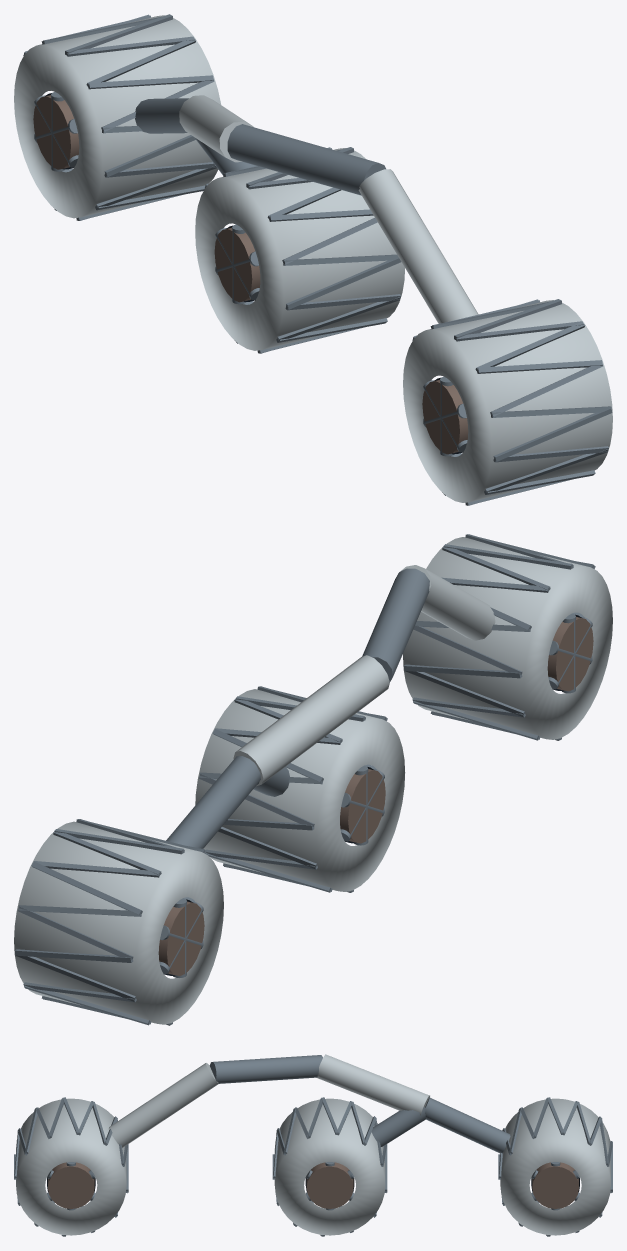
Rendered from curiosity_mobility.rocker_right.glb.
The picture shows the model from 3 angles, top to bottom: view 1: azimuth 30°, elevation 25°; view 2: azimuth 150°, elevation 25°; view 3: azimuth 270°, elevation 25°; orthographic projection. The views are drawn at different scales.
Visible parts, largest first — view 1: curiosity_mobility.rocker_right.steer_front.wheel_front.rim. (×3), curiosity_mobility.rocker_right.bogie.steer_rear.wheel_rear. (×3), curiosity_mobility.rocker_right.bogie.axle_middle.wheel_midd (×3), curiosity_mobility.rocker_right.mesh_Satin_aluminum, curiosity_mobility.rocker_right.mesh_Machined_steel, curiosity_mobility.rocker_right.bogie.mesh_Machined_steel; view 2: curiosity_mobility.rocker_right.bogie.steer_rear.wheel_rear. (×3), curiosity_mobility.rocker_right.steer_front.wheel_front.rim. (×3), curiosity_mobility.rocker_right.bogie.axle_middle.wheel_midd (×3), curiosity_mobility.rocker_right.mesh_Satin_aluminum, curiosity_mobility.rocker_right.bogie.mesh_Machined_steel, curiosity_mobility.rocker_right.mesh_Machined_steel; view 3: curiosity_mobility.rocker_right.bogie.axle_middle.wheel_midd (×3), curiosity_mobility.rocker_right.bogie.steer_rear.wheel_rear. (×3), curiosity_mobility.rocker_right.steer_front.wheel_front.rim. (×3), curiosity_mobility.rocker_right.mesh_Satin_aluminum, curiosity_mobility.rocker_right.bogie.mesh_Machined_steel, curiosity_mobility.rocker_right.mesh_Machined_steel.
Part boxes in pixels (box(x1,y1,x2,y2)): curiosity_mobility.rocker_right.steer_front.wheel_front.rim. (×3): box(403, 299, 612, 505); curiosity_mobility.rocker_right.bogie.steer_rear.wheel_rear. (×3): box(14, 14, 221, 220); curiosity_mobility.rocker_right.bogie.axle_middle.wheel_midd (×3): box(195, 147, 404, 353); curiosity_mobility.rocker_right.mesh_Satin_aluminum: box(179, 95, 478, 323); curiosity_mobility.rocker_right.mesh_Machined_steel: box(227, 124, 385, 195); curiosity_mobility.rocker_right.bogie.mesh_Machined_steel: box(135, 98, 256, 174); curiosity_mobility.rocker_right.bogie.steer_rear.wheel_rear. (×3): box(14, 819, 223, 1025); curiosity_mobility.rocker_right.steer_front.wheel_front.rim. (×3): box(403, 534, 612, 740); curiosity_mobility.rocker_right.bogie.axle_middle.wheel_midd (×3): box(195, 686, 405, 892); curiosity_mobility.rocker_right.mesh_Satin_aluminum: box(233, 565, 495, 786); curiosity_mobility.rocker_right.bogie.mesh_Machined_steel: box(166, 756, 289, 848); curiosity_mobility.rocker_right.mesh_Machined_steel: box(362, 568, 429, 682); curiosity_mobility.rocker_right.bogie.axle_middle.wheel_midd (×3): box(272, 1097, 387, 1236); curiosity_mobility.rocker_right.bogie.steer_rear.wheel_rear. (×3): box(498, 1097, 612, 1236); curiosity_mobility.rocker_right.steer_front.wheel_front.rim. (×3): box(14, 1097, 128, 1236); curiosity_mobility.rocker_right.mesh_Satin_aluminum: box(108, 1054, 429, 1147); curiosity_mobility.rocker_right.bogie.mesh_Machined_steel: box(371, 1097, 510, 1153); curiosity_mobility.rocker_right.mesh_Machined_steel: box(209, 1055, 322, 1083).
Bounding box in the file's own units: 0.4981 × 0.7506 × 2.71.
